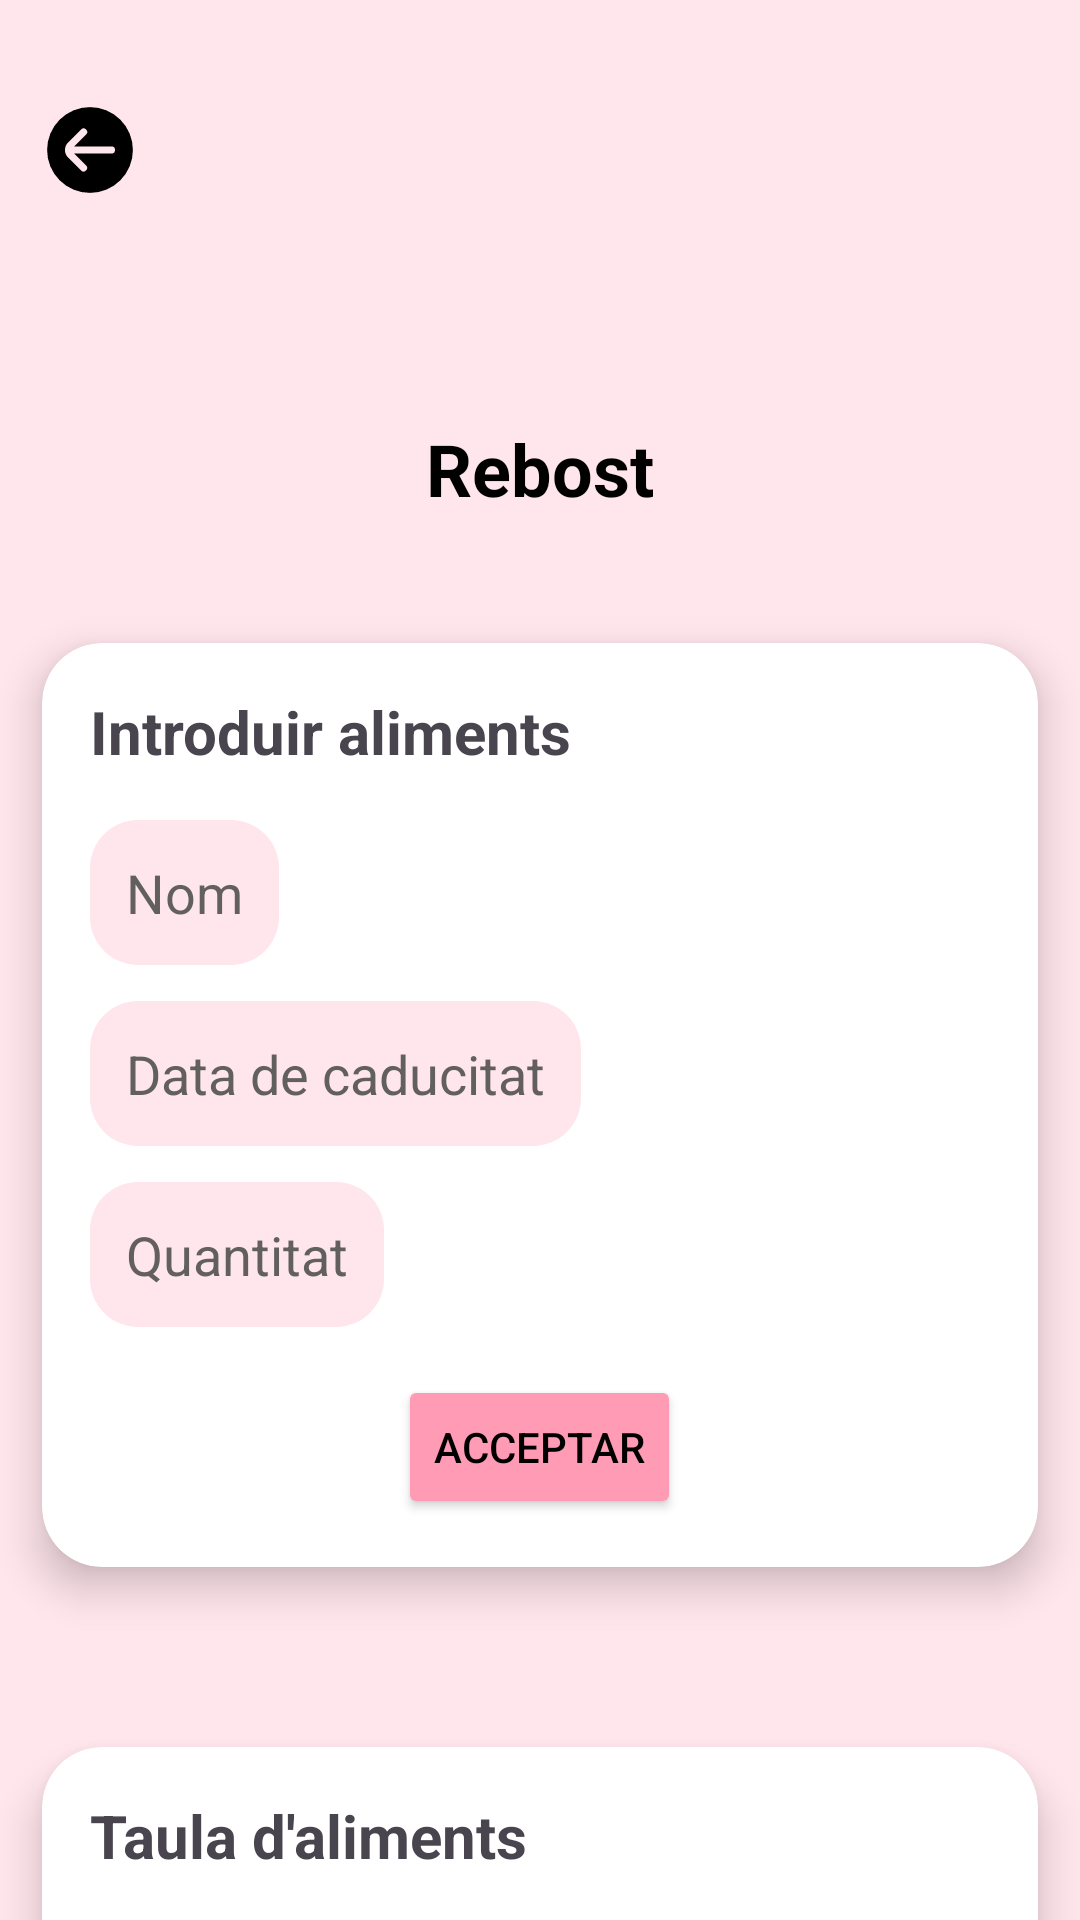

Point at icon controls on the screen. Image size 1080 × 1920, points as [x,y].
draw volver: [90,150]
